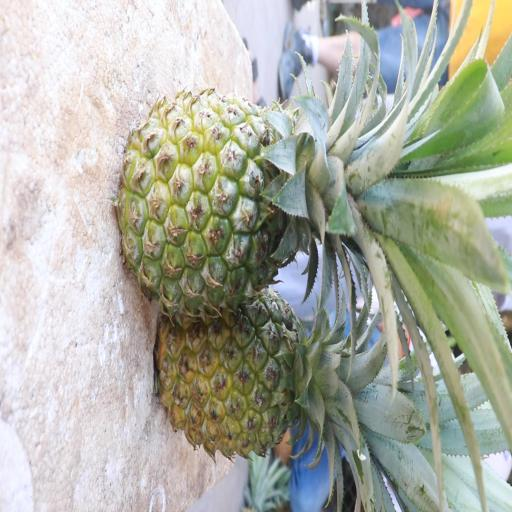------------------------------: (118, 100, 361, 324)
Pineapple - v8 v1: (156, 296, 353, 464)
